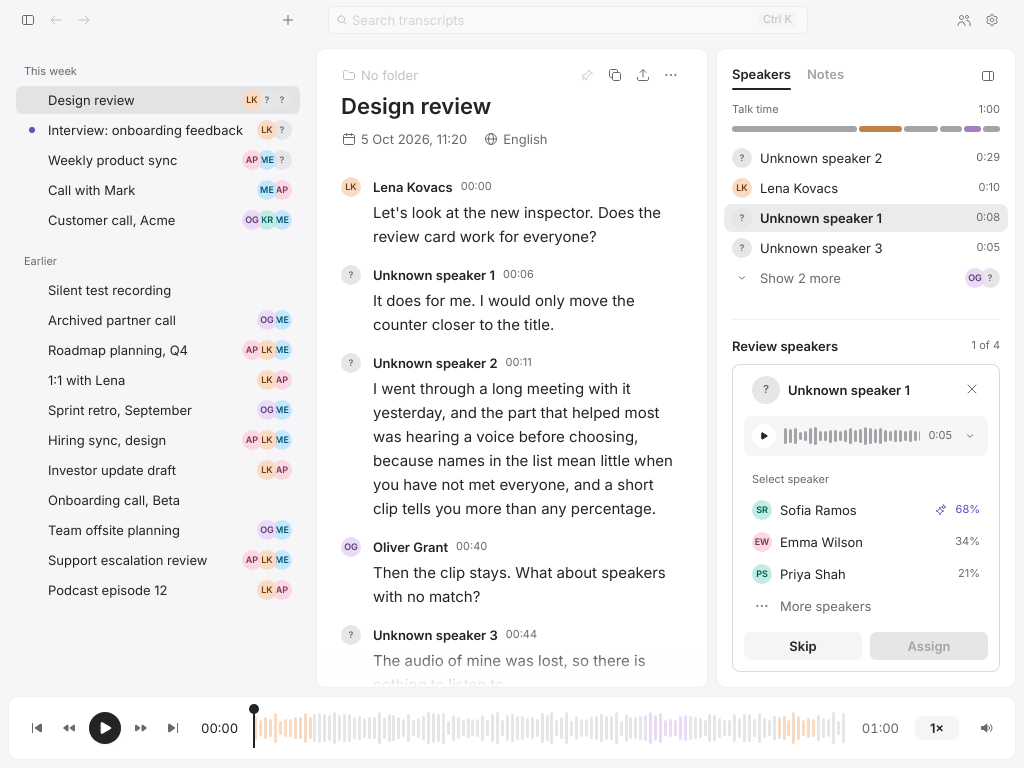
the Notes tab › a recording without a note opens an empty editor
Check: the heading "Design review" is shown, box [341, 93, 491, 121]
Step 1. Click the tab "Notes" → (826, 77), box [807, 64, 844, 90]
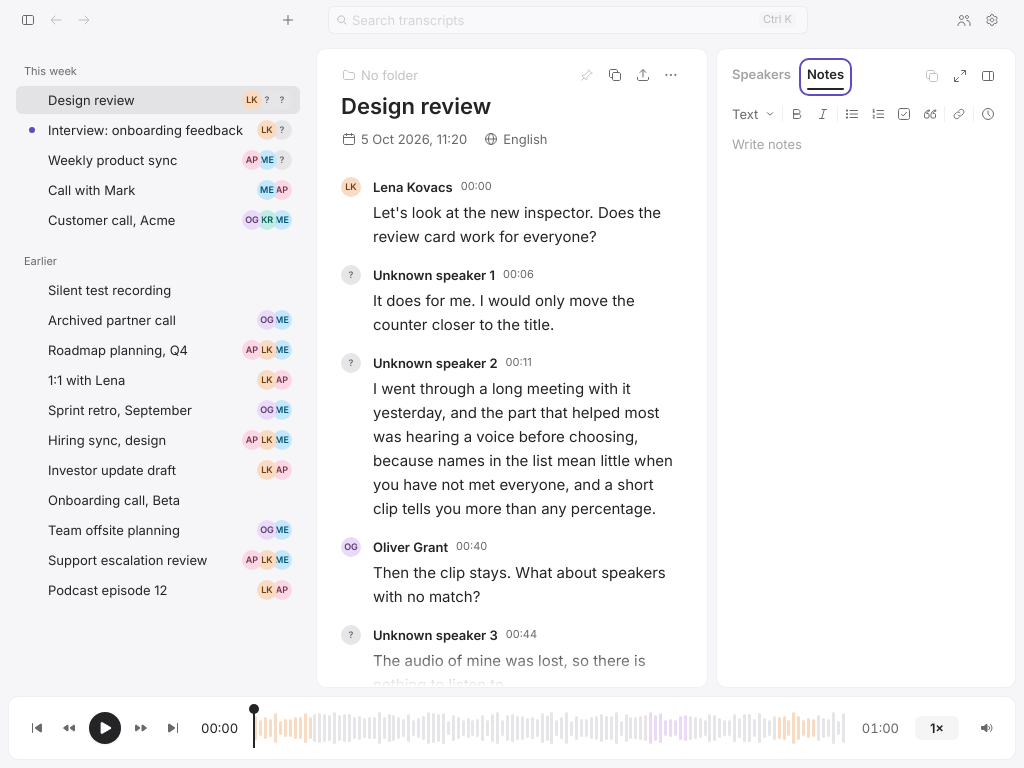
Check: the button named "Copy notes" is disabled, box [920, 64, 944, 88]
